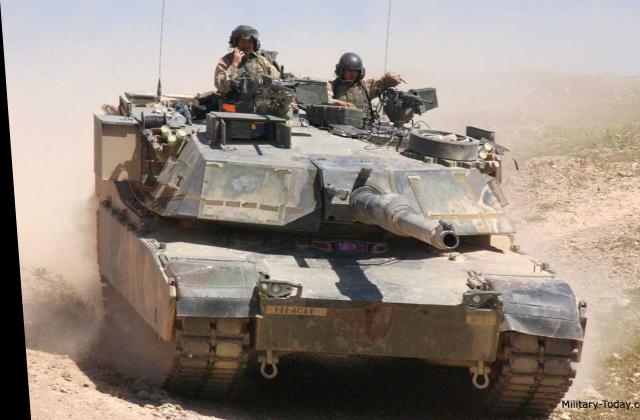other: (192, 18, 294, 128), (303, 27, 391, 130)
tank: (49, 128, 581, 418)
